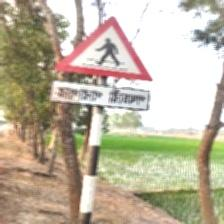Pedestrian-crossing: (50, 15, 154, 113)
